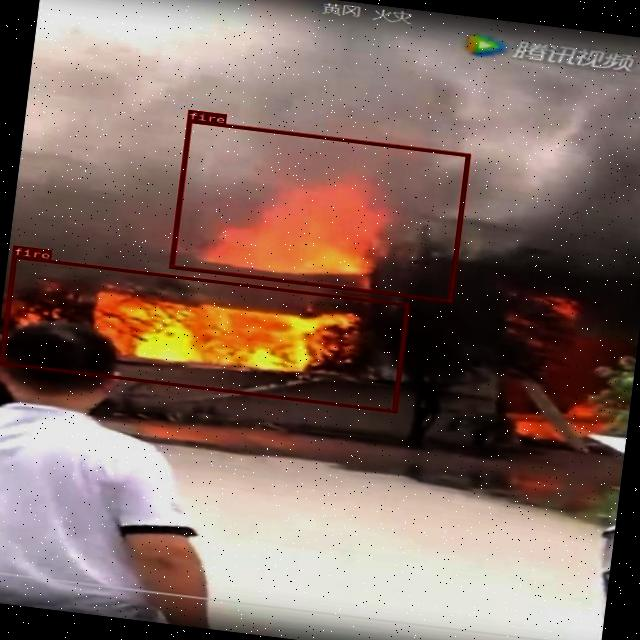fire: (0, 254, 408, 412), (168, 118, 469, 302)
